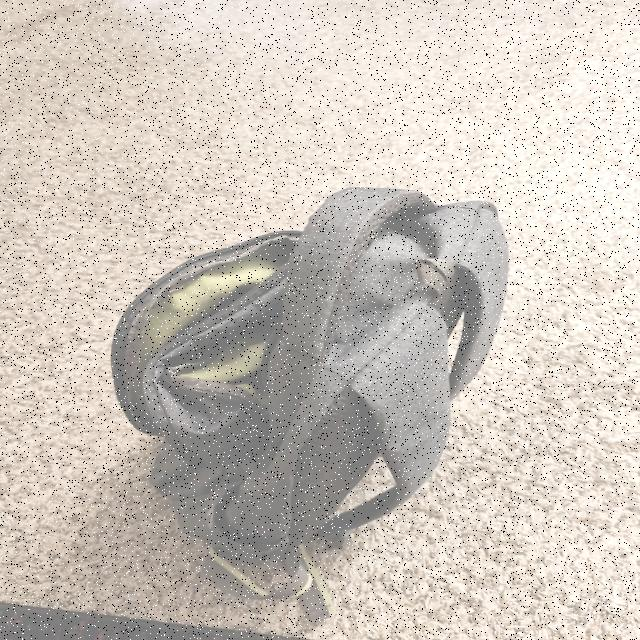bag: (102, 182, 516, 526)
